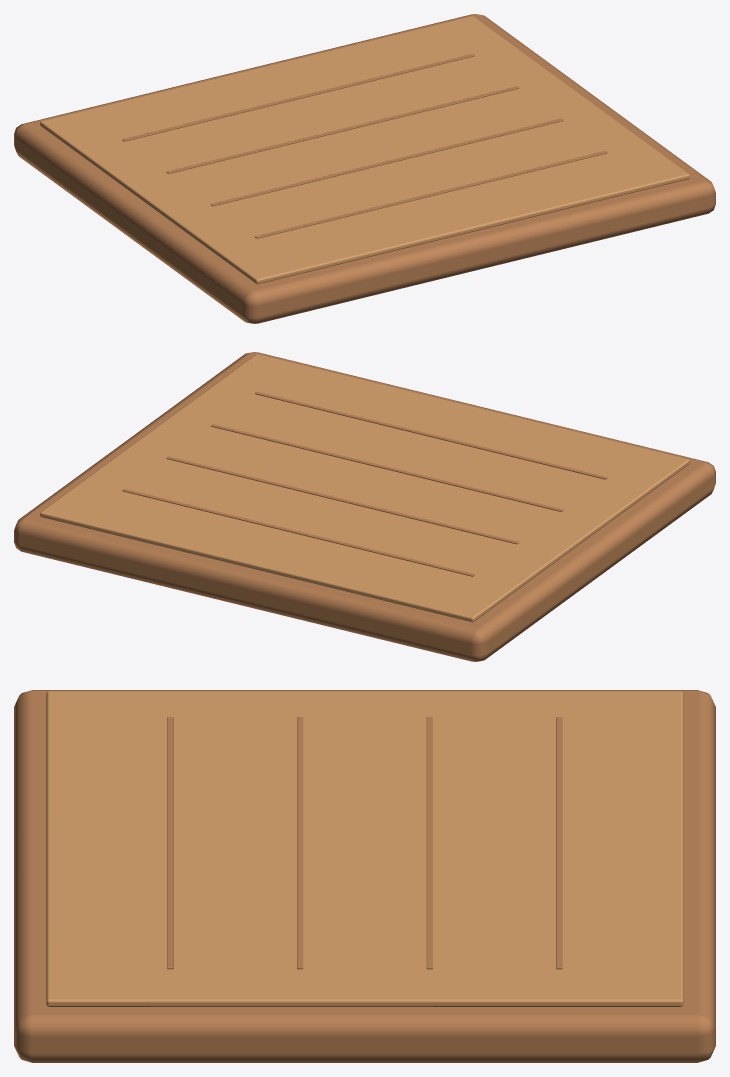
The model's file is board.glb.
3 renders of one model, top to bottom at view 1: azimuth 30°, elevation 25°; view 2: azimuth 150°, elevation 25°; view 3: azimuth 270°, elevation 25°, orthographic. The views are drawn at different scales.
Visible parts, largest first — view 1: board; view 2: board; view 3: board.
Part boxes in pixels (bbox=[...]): board: bbox=[14, 14, 715, 323]; board: bbox=[14, 352, 715, 661]; board: bbox=[14, 690, 715, 1062].
Bounding box in the file's own units: 0.74 × 0.06 × 0.65.
